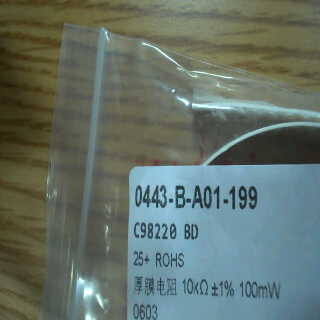10kR: (181, 271, 213, 301)
